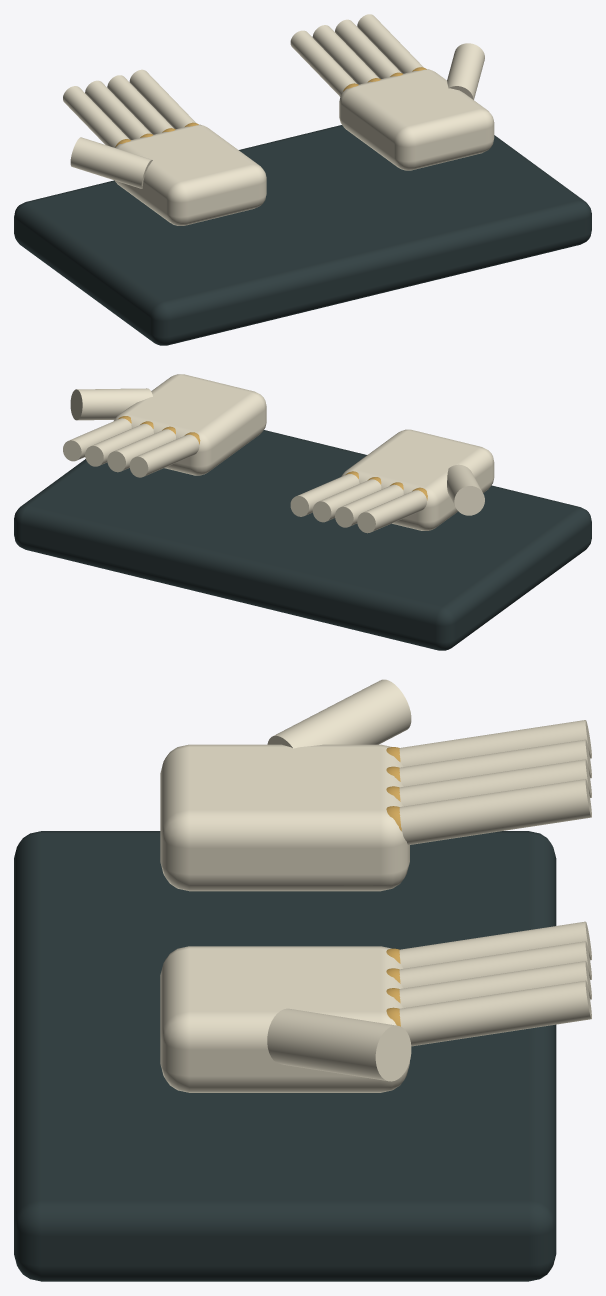
The model's file is hands.glb.
The picture shows the model from 3 angles, top to bottom: view 1: azimuth 30°, elevation 25°; view 2: azimuth 150°, elevation 25°; view 3: azimuth 270°, elevation 25°; orthographic projection. The views are drawn at different scales.
Visible parts, largest first — view 1: hands; view 2: hands; view 3: hands.
Boxes of the visible parts, x1,y1,x2,y2 form: hands: [14, 14, 591, 345]; hands: [14, 374, 591, 650]; hands: [14, 679, 591, 1281].
Bounding box in the file's own units: 0.85 × 0.2478 × 0.533.
